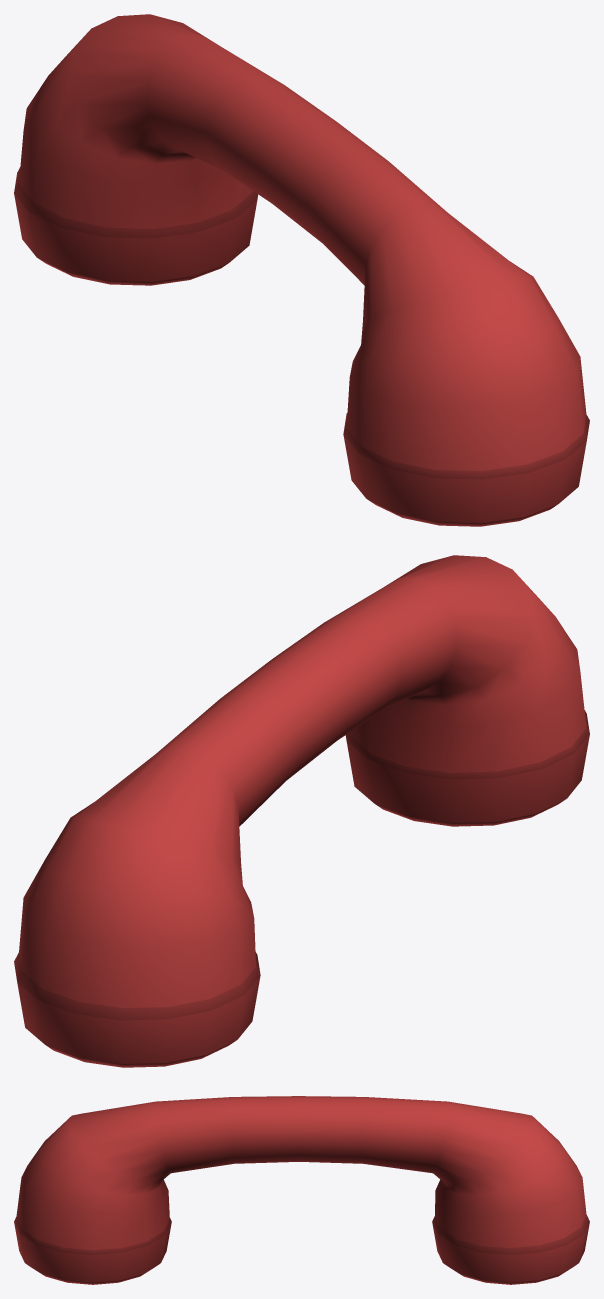
3 views of the same model, one above another, from view 1: azimuth 30°, elevation 25°; view 2: azimuth 150°, elevation 25°; view 3: azimuth 270°, elevation 25° (orthographic). The views are drawn at different scales.
Visible parts, largest first — view 1: alt433; view 2: alt433; view 3: alt433.
Boxes of the visible parts, x1,y1,x2,y2 form: alt433: (14, 14, 589, 526); alt433: (14, 555, 589, 1067); alt433: (14, 1096, 589, 1284).
Bounding box in the file's own units: 0.137 × 0.1523 × 0.5.
